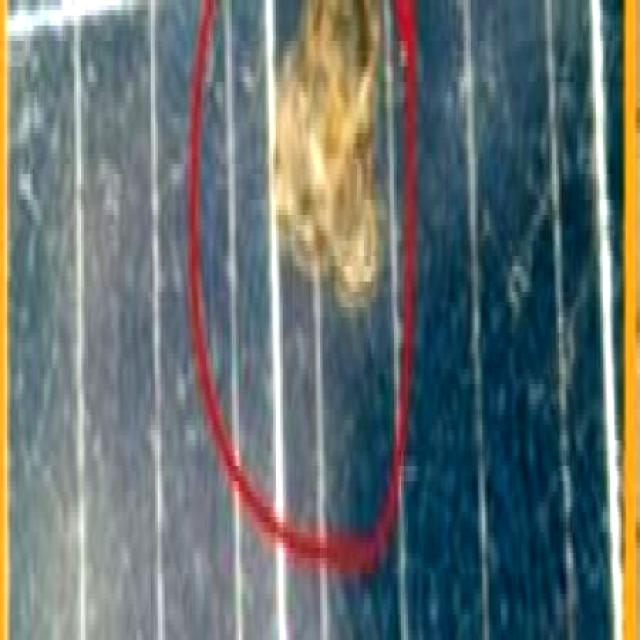shadow: (265, 0, 392, 345)
